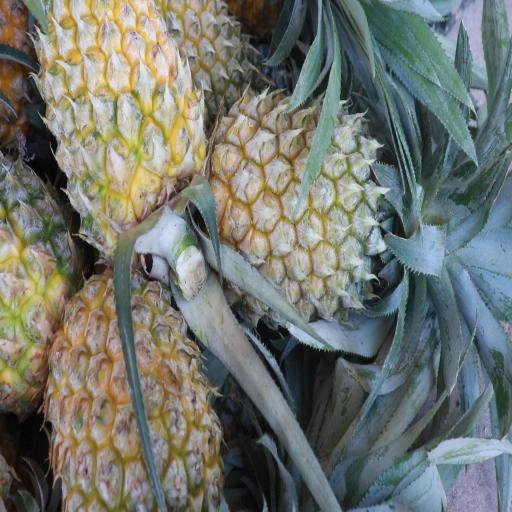------------------------------: (1, 155, 96, 421)
Pineapple - v8 v1: (35, 0, 209, 295), (206, 84, 413, 331), (40, 276, 228, 512)
